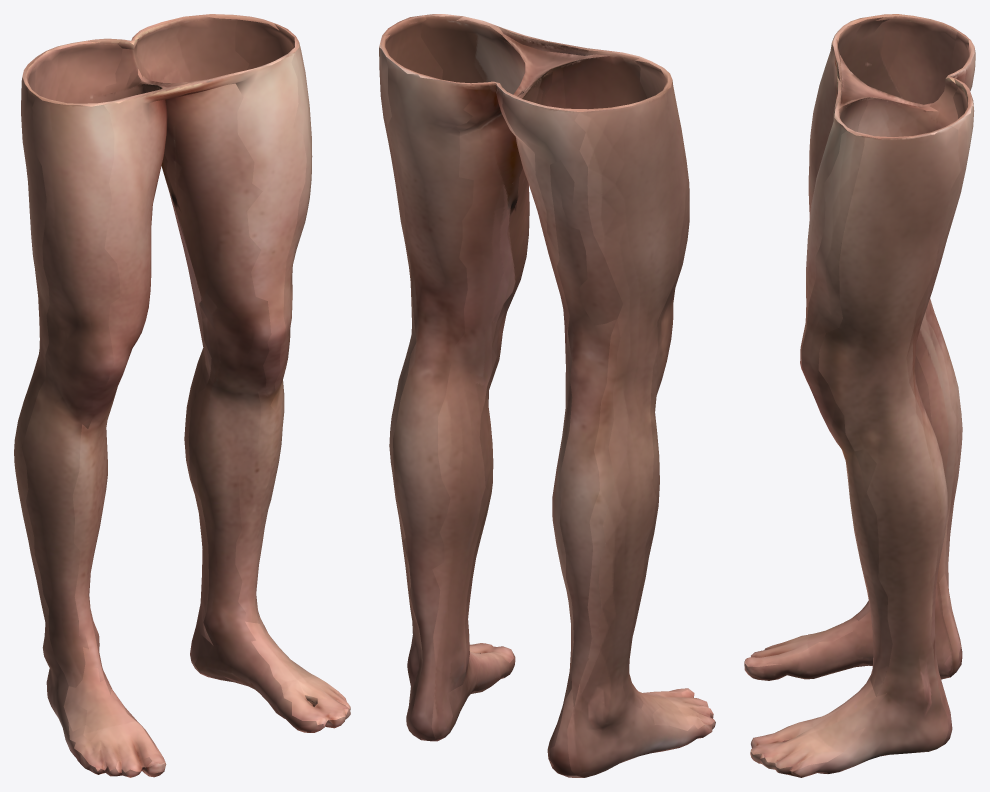
The model's file is charge_legs.glb.
The picture shows the model from 3 angles, left to right: view 1: azimuth 30°, elevation 25°; view 2: azimuth 150°, elevation 25°; view 3: azimuth 270°, elevation 25°; orthographic projection. The views are drawn at different scales.
Visible parts, largest first — view 1: geometry_0; view 2: geometry_0; view 3: geometry_0.
Part boxes in pixels (bbox=[...]): geometry_0: bbox=[14, 14, 350, 777]; geometry_0: bbox=[379, 14, 715, 777]; geometry_0: bbox=[744, 14, 975, 777].
Size of the model in its own units: 0.9 by 2.05 by 0.6737.
Materials: 1 (1 with a texture image).
